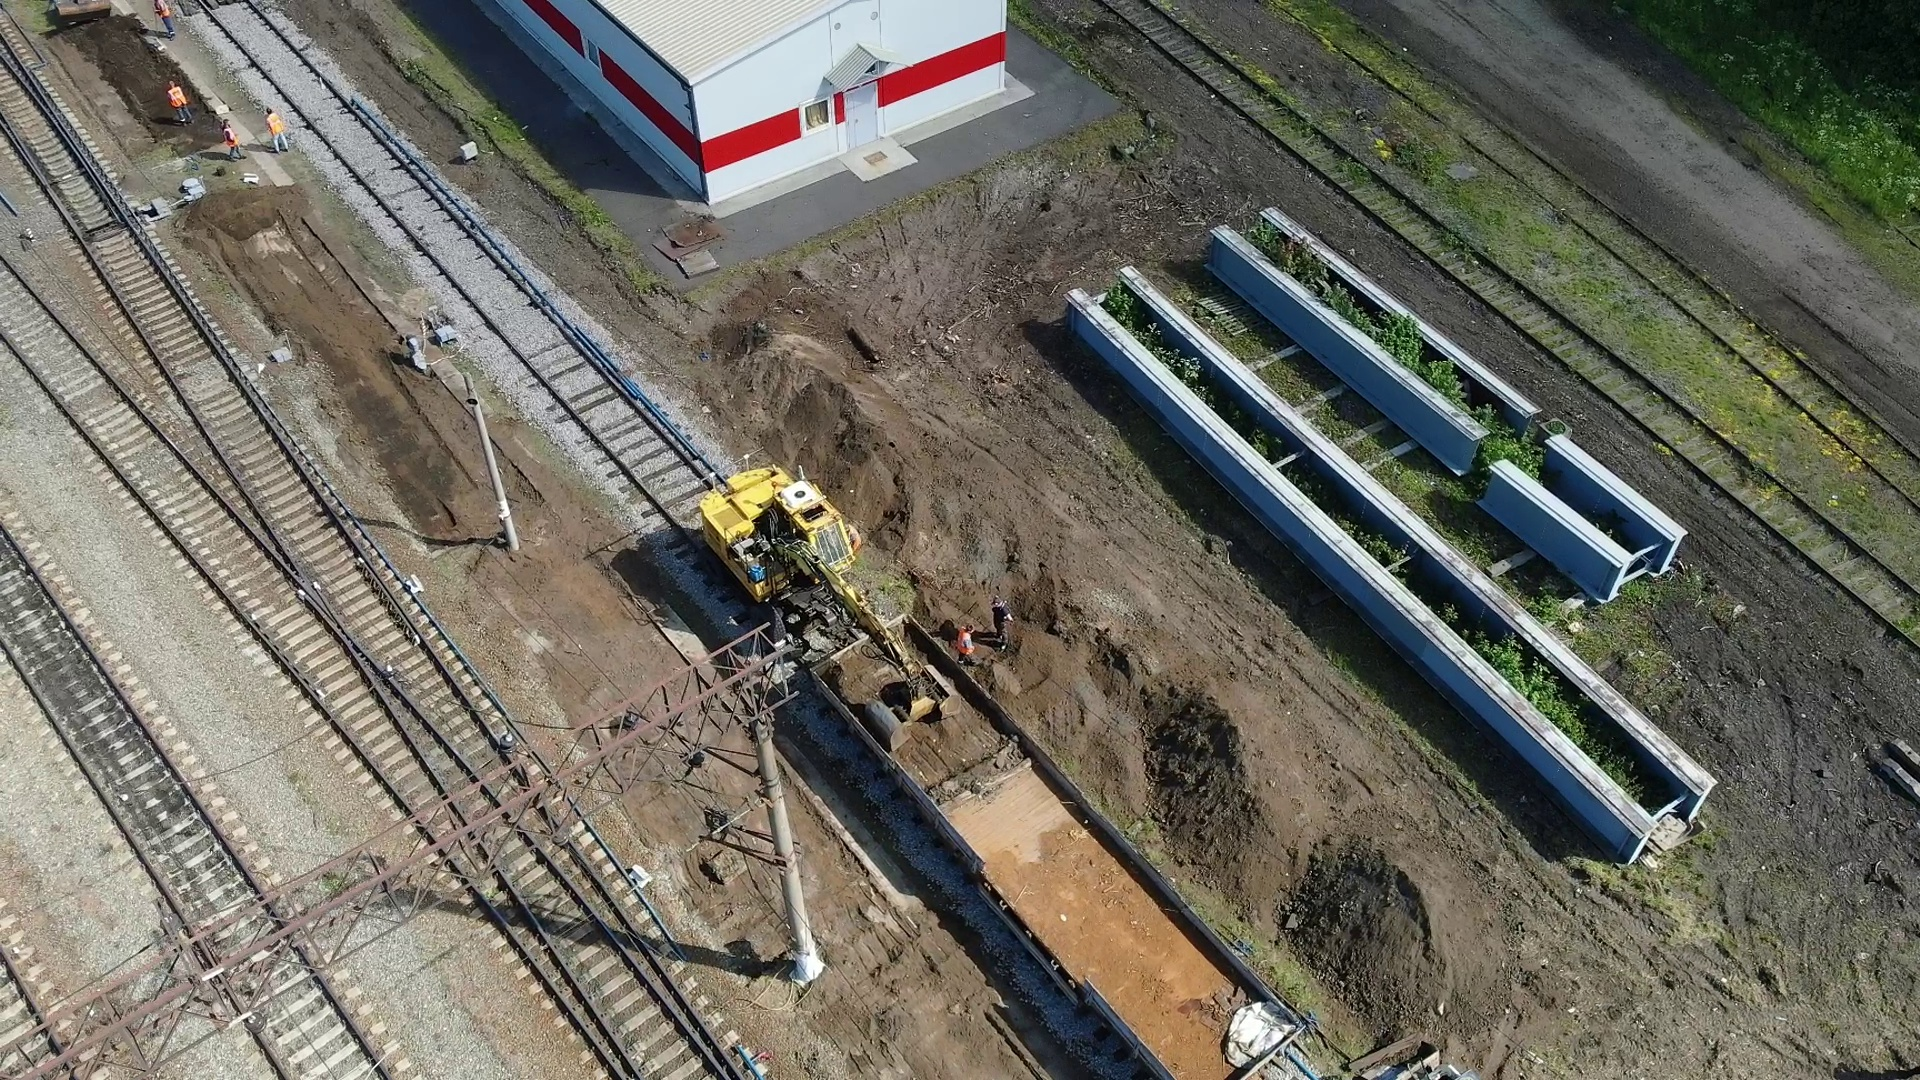kjtv: (702, 468, 858, 636)
